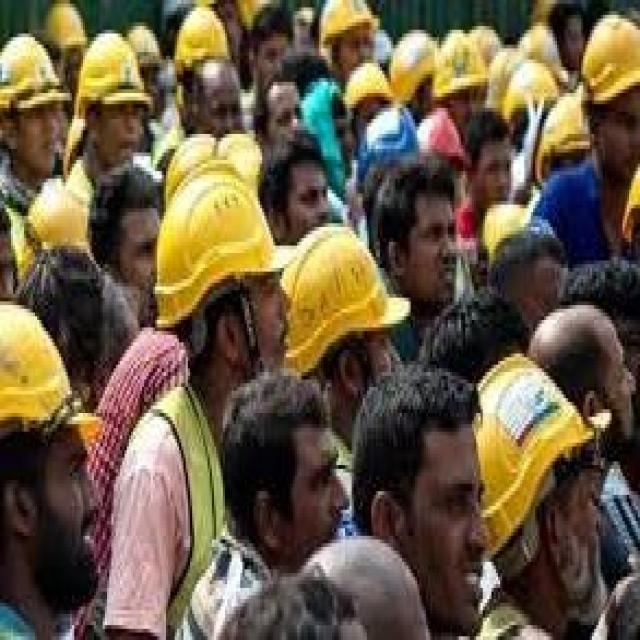Safety-Helmet: (466, 348, 601, 544), (151, 168, 284, 316), (282, 227, 408, 376), (1, 305, 103, 469), (76, 30, 153, 111), (579, 7, 640, 108), (1, 34, 70, 119), (430, 23, 489, 103), (172, 4, 232, 67), (317, 1, 381, 38)
